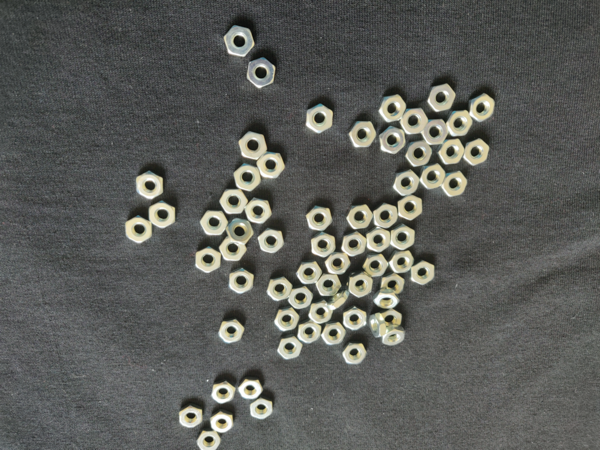nut: (224, 26, 255, 57), (247, 57, 275, 89), (428, 84, 456, 113), (378, 126, 406, 155), (233, 164, 262, 192), (306, 104, 333, 134), (348, 121, 378, 148), (256, 152, 286, 179), (239, 132, 267, 160), (136, 171, 164, 199), (125, 216, 153, 244), (404, 140, 433, 167), (446, 109, 474, 136), (379, 95, 407, 122), (226, 217, 254, 244), (470, 94, 496, 123), (400, 108, 429, 134), (245, 198, 272, 225), (306, 205, 333, 232), (420, 162, 446, 190), (149, 201, 175, 229), (346, 204, 374, 230), (437, 139, 466, 164), (220, 189, 249, 214), (200, 211, 229, 236), (422, 119, 449, 145), (464, 139, 490, 166), (393, 170, 420, 196), (229, 268, 255, 295), (219, 237, 247, 262), (373, 203, 399, 229), (348, 272, 374, 298), (442, 171, 467, 198), (196, 247, 221, 274), (218, 320, 246, 344), (258, 229, 284, 254), (398, 195, 423, 221), (310, 233, 336, 258), (367, 227, 392, 253), (342, 231, 367, 257), (391, 224, 415, 251), (267, 277, 293, 301), (321, 322, 347, 346), (362, 254, 389, 277), (275, 308, 300, 332), (297, 320, 322, 344), (211, 381, 236, 405), (296, 262, 322, 285), (325, 253, 352, 275), (309, 300, 333, 324), (179, 405, 203, 429), (412, 260, 435, 285), (289, 286, 314, 309), (278, 336, 303, 359), (389, 252, 415, 274), (316, 274, 342, 296), (380, 273, 405, 295), (344, 307, 367, 330), (327, 286, 349, 310), (380, 325, 405, 346), (239, 379, 264, 400), (373, 289, 400, 308), (250, 398, 273, 420), (211, 411, 234, 433), (343, 344, 367, 365), (198, 431, 222, 450), (370, 314, 387, 338), (382, 309, 402, 327)
